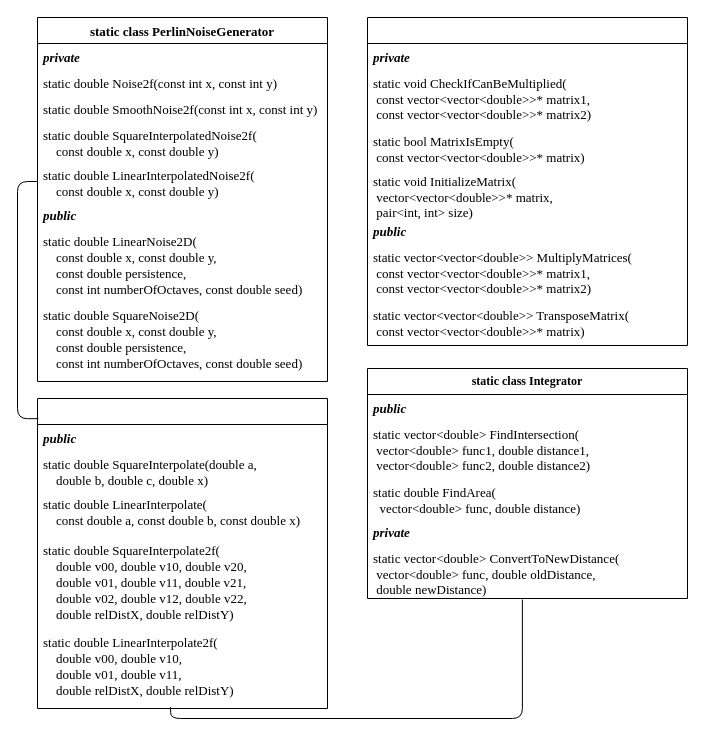
Image size: 705x737. Some labels were removed from this diagram. Each missing label, with the box of its shape:
static class Interpolator: (36, 398, 328, 708)
static class MatrixOperations: (366, 16, 688, 346)
